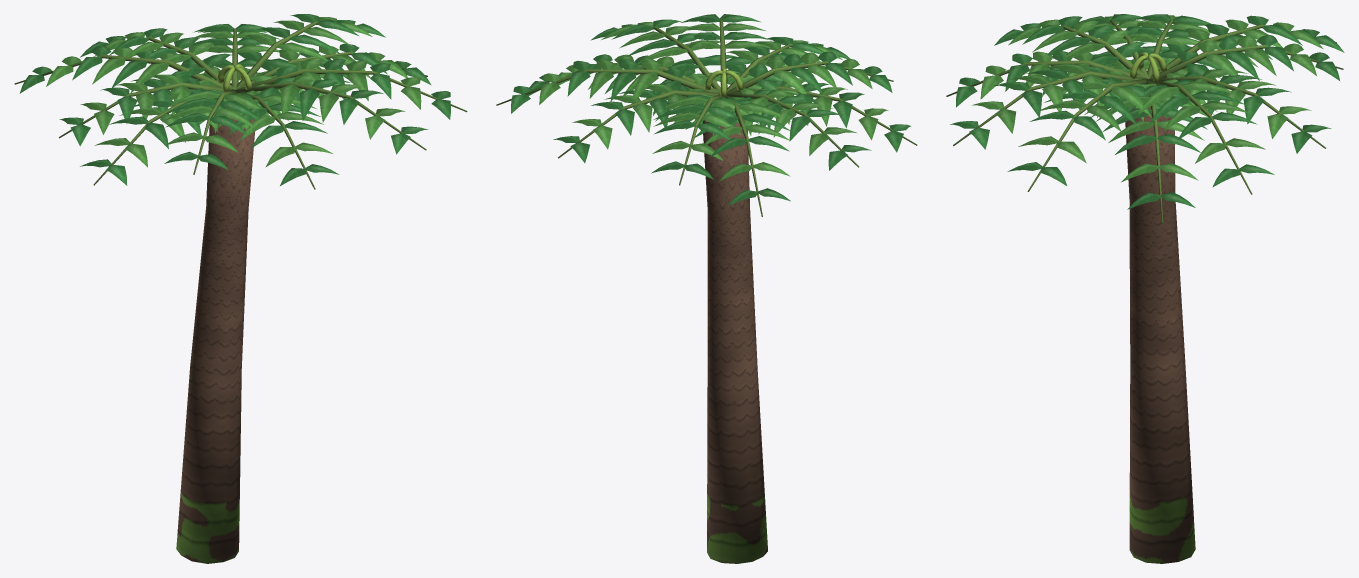
Rendered from tree_fern_a.glb.
3 views of the same model, side by side, from view 1: azimuth 30°, elevation 25°; view 2: azimuth 150°, elevation 25°; view 3: azimuth 270°, elevation 25° (orthographic). The views are drawn at different scales.
Visible parts, largest first — view 1: Crown_leaf, Trunk; view 2: Crown_leaf, Trunk; view 3: Crown_leaf, Trunk.
Boxes of the visible parts, x1,y1,x2,y2 form: Crown_leaf: (14, 14, 467, 189); Trunk: (176, 83, 255, 563); Crown_leaf: (496, 14, 917, 216); Trunk: (703, 119, 767, 563); Crown_leaf: (946, 14, 1344, 223); Trunk: (1125, 70, 1195, 563).
Size of the model in its own units: 2.3 by 2.88 by 2.05.
Materials: 1 (1 with a texture image).
